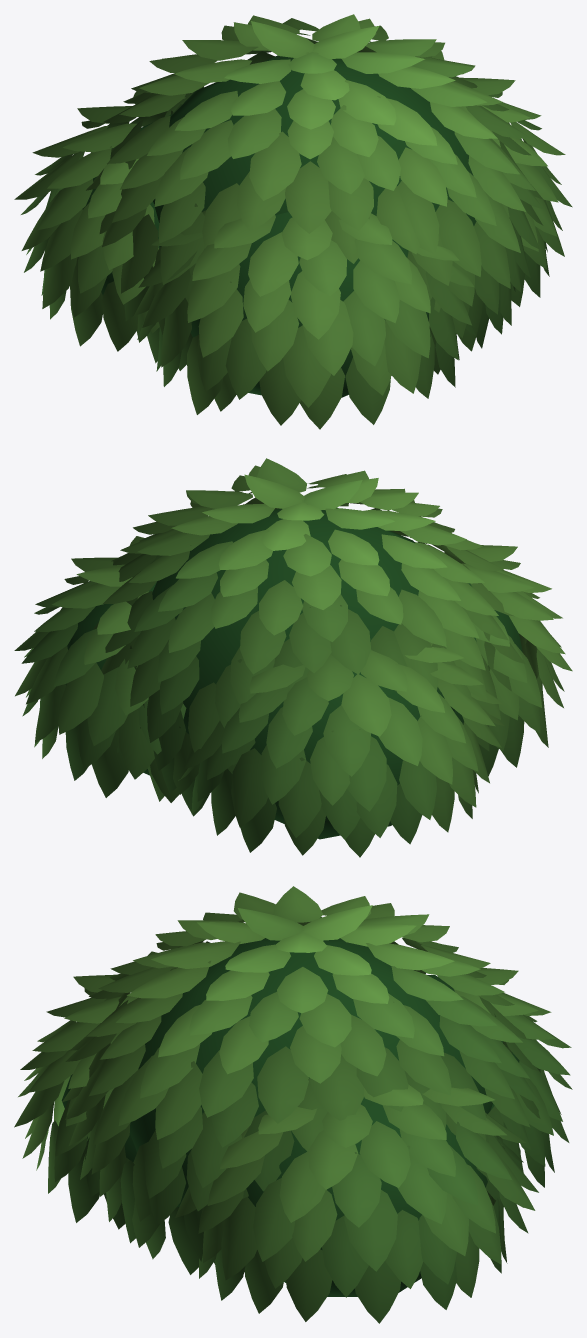
File: bush_round.glb
3 views of the same model, one above another, from view 1: azimuth 30°, elevation 25°; view 2: azimuth 150°, elevation 25°; view 3: azimuth 270°, elevation 25° (orthographic). The views are drawn at different scales.
Visible parts, largest first — view 1: bush_round; view 2: bush_round; view 3: bush_round.
Boxes of the visible parts, x1=… form: bush_round: x1=14, y1=14, x2=572, y2=429; bush_round: x1=14, y1=458, x2=572, y2=857; bush_round: x1=14, y1=886, x2=572, y2=1323.
Size of the model in its own units: 1.37 by 0.8445 by 1.31.
